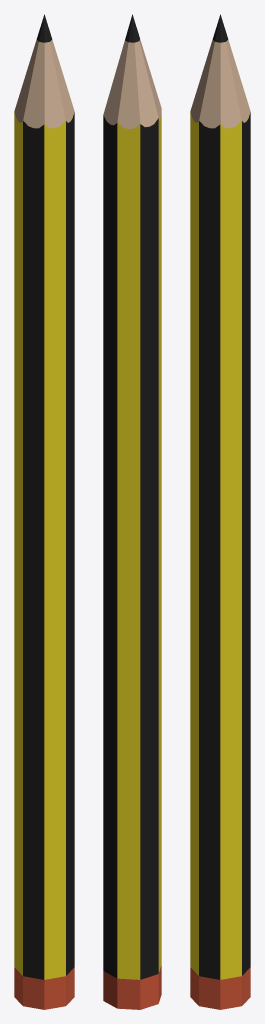
The model's file is new_try.glb.
The picture shows the model from 3 angles, left to right: view 1: azimuth 90°, elevation 25°; view 2: azimuth 150°, elevation 25°; view 3: azimuth 270°, elevation 25°; orthographic projection.
Visible parts, largest first — view 1: Pencil; view 2: Pencil; view 3: Pencil.
Part boxes in pixels (bbox=[...]): Pencil: bbox=[14, 14, 74, 1009]; Pencil: bbox=[103, 14, 161, 1009]; Pencil: bbox=[190, 14, 250, 1009].
Size of the model in its own units: 1.09 by 19.57 by 1.09.
Materials: 1 (1 with a texture image).
